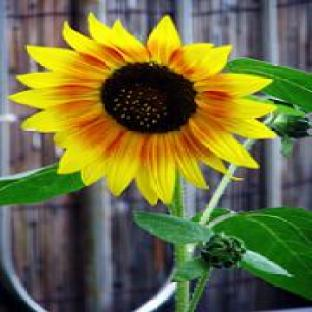sunflower: (0, 13, 277, 218)
